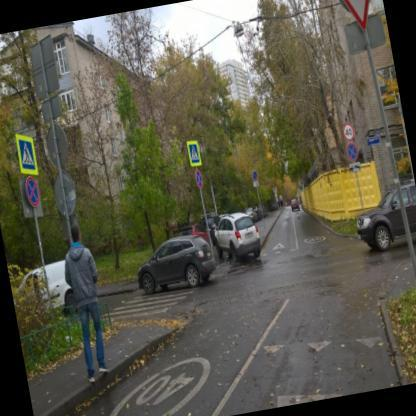obstructed_road_sign: (343, 0, 371, 32)
road_sign: (16, 133, 36, 176), (24, 176, 40, 207), (186, 140, 203, 167), (346, 141, 359, 161), (194, 169, 204, 189), (344, 124, 355, 141)
